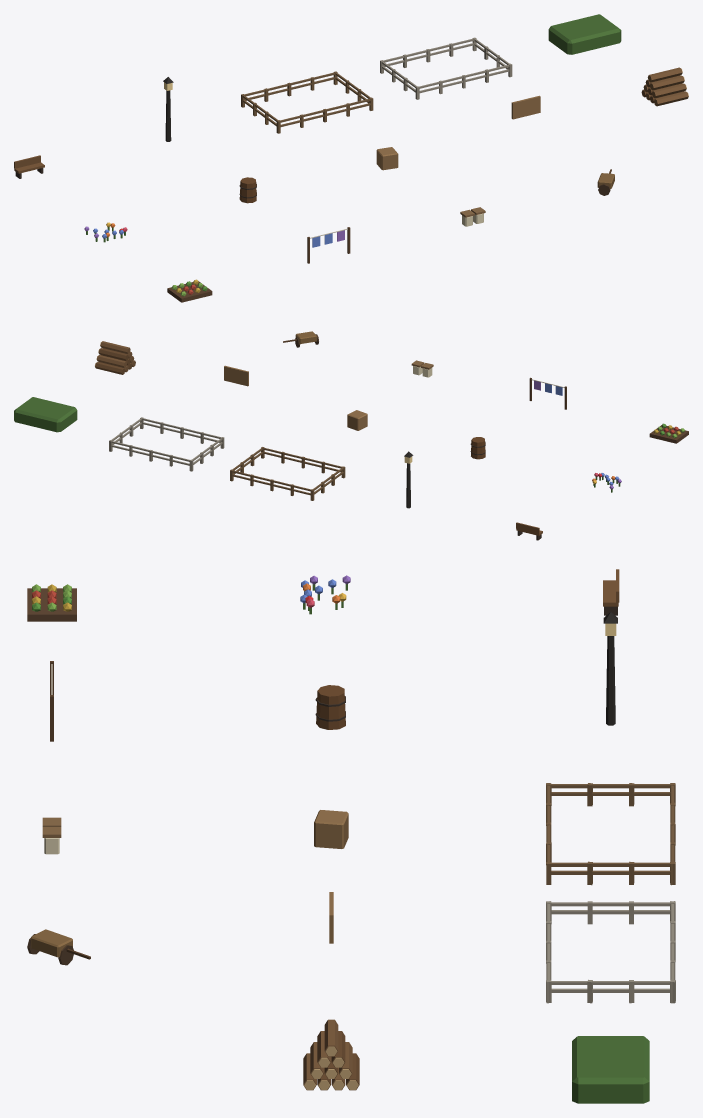
File: kinstead-decorations-library.glb
The picture shows the model from 3 angles, top to bottom: view 1: azimuth 30°, elevation 25°; view 2: azimuth 150°, elevation 25°; view 3: azimuth 270°, elevation 25°; orthographic projection. The views are drawn at different scales.
Parts seen in each view (by area): view 1: Stone Fence, Wood Fence, Hedge, Logs, Vegetable Patch, Sign, Washing Line, Crate, Bench; view 2: Wood Fence, Stone Fence, Hedge, Logs, Vegetable Patch, Sign, Washing Line, Crate; view 3: Hedge, Wood Fence, Stone Fence, Logs, Vegetable Patch, Crate, Barrel, Handcart, Street Lamp, Flowers.
Boxes of the visible parts, bbox=[...] form: Stone Fence: bbox=[380, 37, 512, 99]; Wood Fence: bbox=[241, 71, 373, 133]; Hedge: bbox=[548, 14, 621, 54]; Logs: bbox=[641, 67, 688, 106]; Vegetable Patch: bbox=[167, 279, 212, 302]; Sign: bbox=[511, 95, 540, 119]; Washing Line: bbox=[307, 227, 350, 263]; Crate: bbox=[376, 147, 398, 170]; Bench: bbox=[14, 155, 44, 178]; Wood Fence: bbox=[230, 447, 345, 500]; Stone Fence: bbox=[109, 417, 224, 471]; Hedge: bbox=[14, 397, 77, 432]; Logs: bbox=[95, 341, 135, 374]; Vegetable Patch: bbox=[649, 423, 688, 443]; Sign: bbox=[224, 365, 248, 386]; Washing Line: bbox=[529, 377, 566, 409]; Crate: bbox=[347, 410, 367, 430]; Hedge: bbox=[572, 1036, 649, 1103]; Wood Fence: bbox=[546, 783, 675, 885]; Stone Fence: bbox=[546, 901, 675, 1003]; Logs: bbox=[303, 1019, 359, 1090]; Vegetable Patch: bbox=[27, 584, 76, 621]; Crate: bbox=[314, 810, 348, 848]; Barrel: bbox=[315, 685, 345, 729]; Handcart: bbox=[27, 929, 90, 965]; Street Lamp: bbox=[603, 612, 617, 725]; Flowers: bbox=[300, 575, 350, 614].
Bounding box in the file's own units: 3.91 × 0.408 × 2.09.
